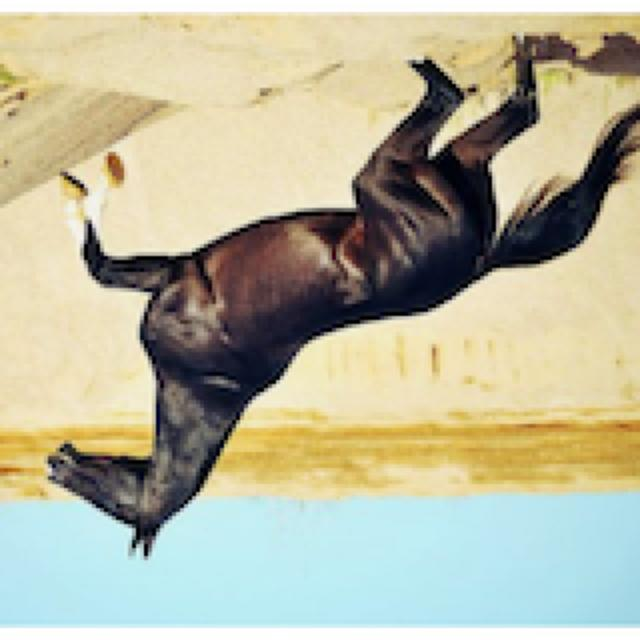Horse: (40, 36, 640, 564)
